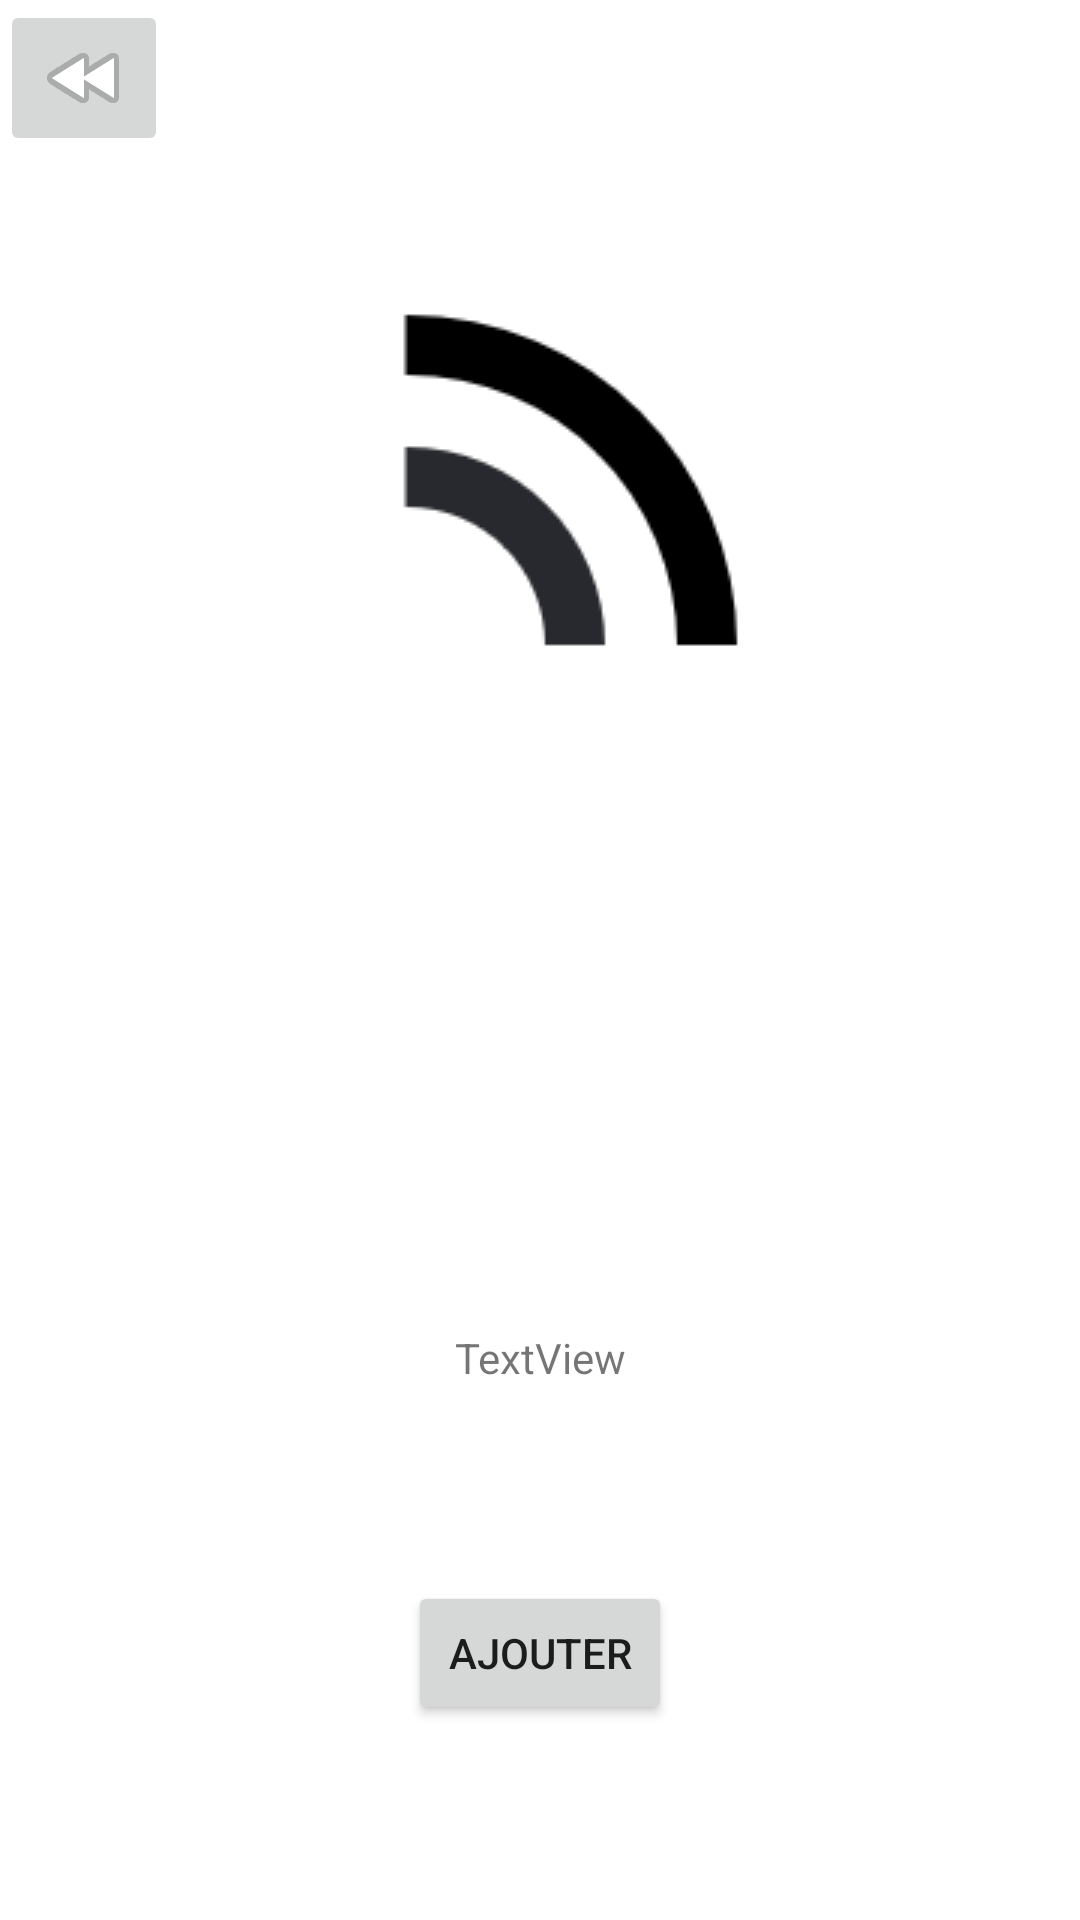

Where to tap for icons on this 1080w x 1920h app screen, as (x=x, y=y):
rew: (x=84, y=78)
